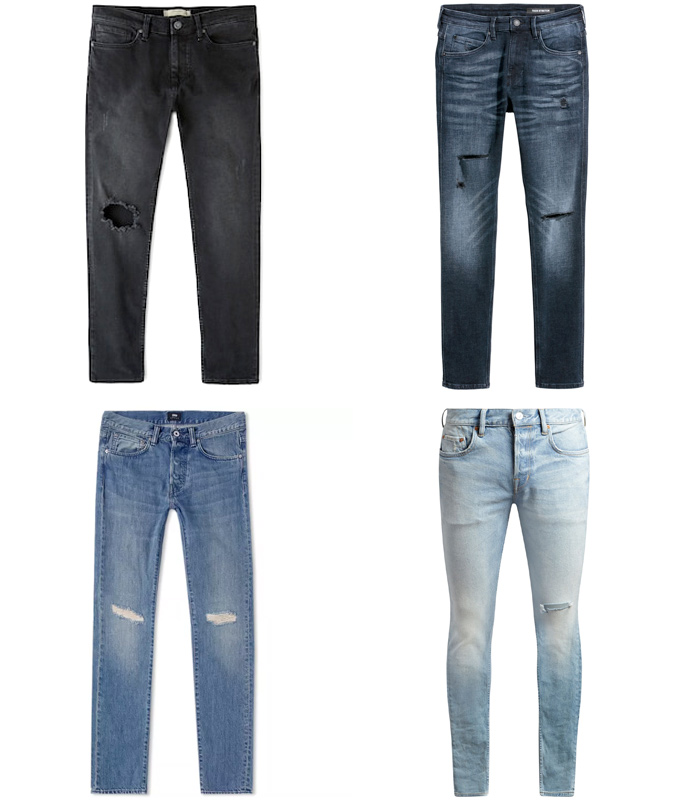Jeans: (78, 1, 273, 391), (86, 407, 262, 798), (429, 2, 598, 393), (428, 403, 593, 800)
